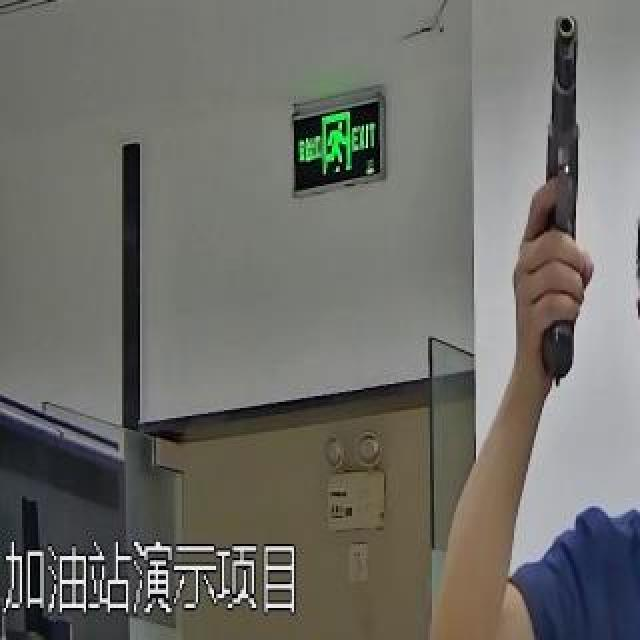Guns: (504, 0, 626, 436)
